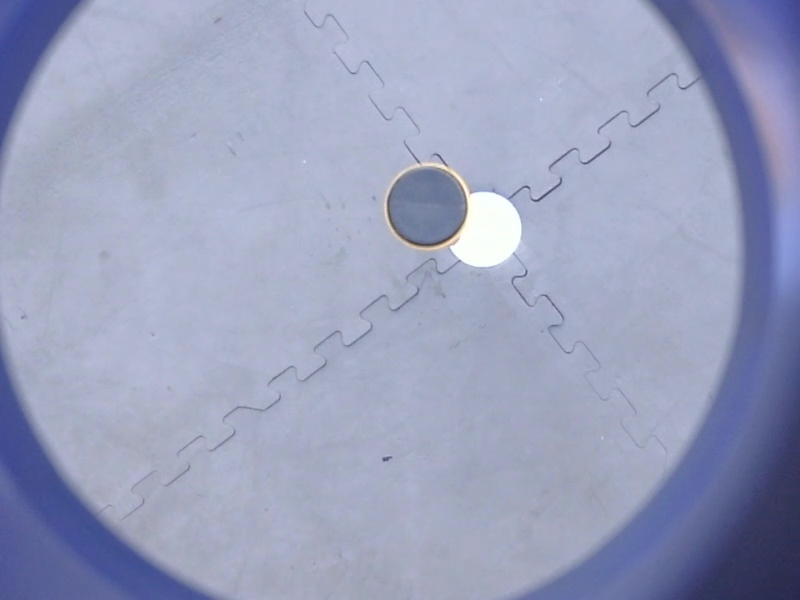tip: (380, 156, 475, 254)
